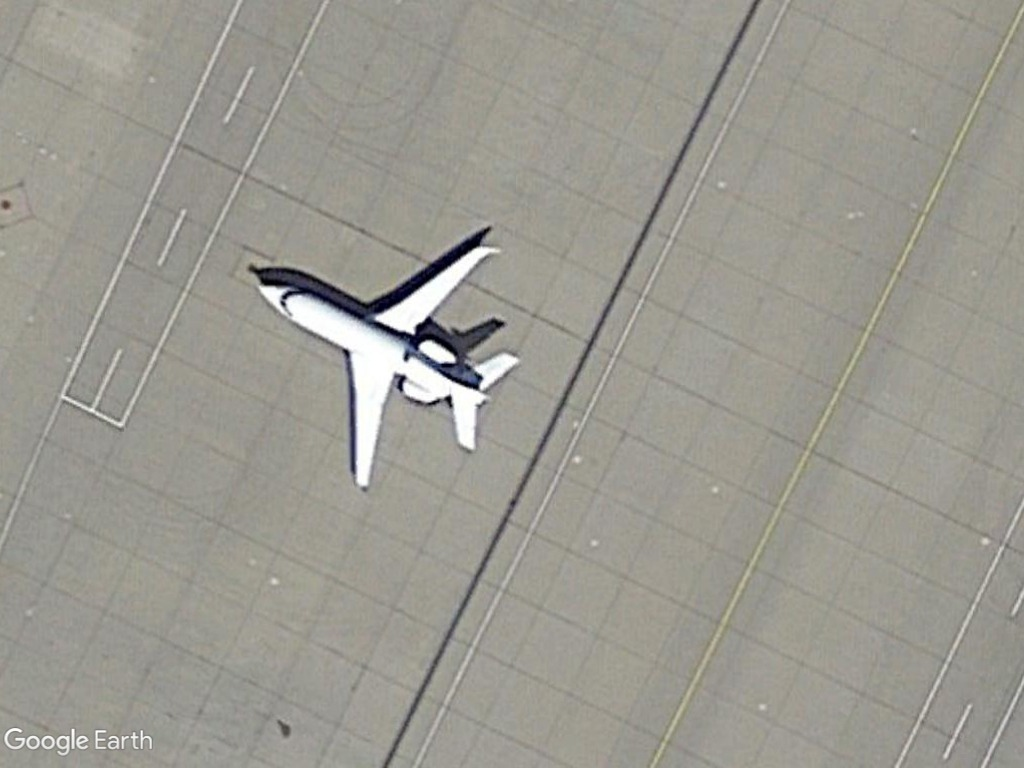chartered: (252, 235, 524, 498)
